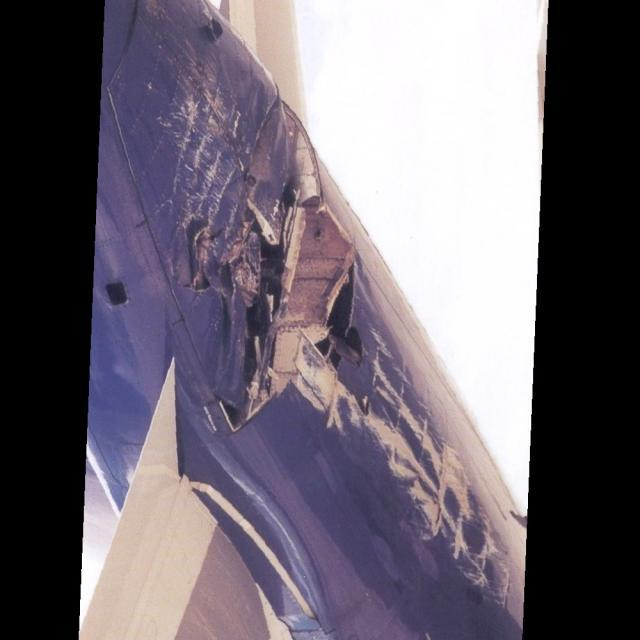Crack: (181, 188, 367, 444)
